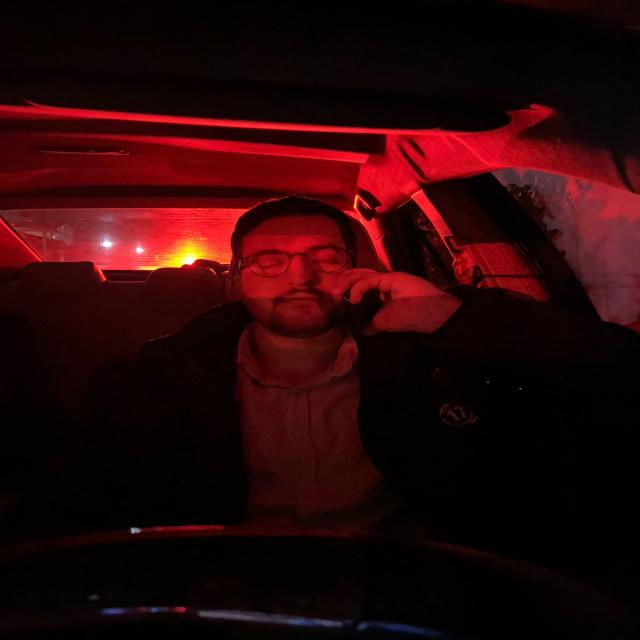mobile: (342, 266, 403, 342)
person: (224, 196, 362, 343)
